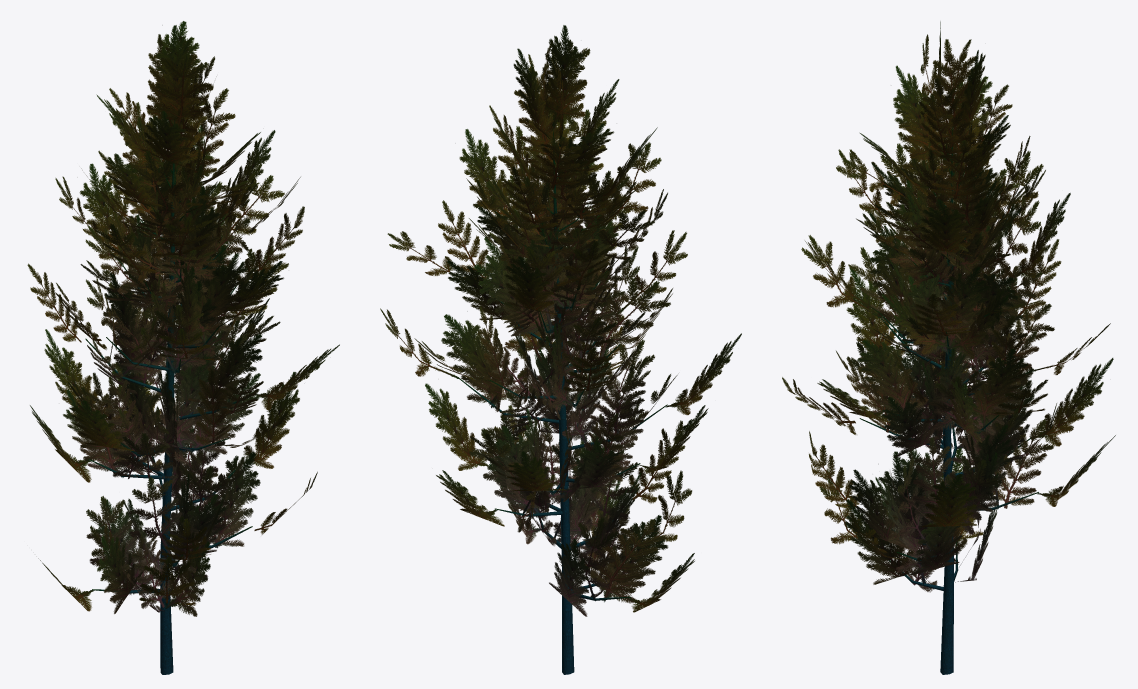
The model's file is Douglas_Fir_F.glb.
The picture shows the model from 3 angles, left to right: view 1: azimuth 30°, elevation 25°; view 2: azimuth 150°, elevation 25°; view 3: azimuth 270°, elevation 25°; orthographic projection.
Parts seen in each view (by area): view 1: F_LOD0; view 2: F_LOD0; view 3: F_LOD0.
Boxes of the visible parts, <box> form: F_LOD0: <box>27,21,339,674</box>; F_LOD0: <box>380,25,741,674</box>; F_LOD0: <box>782,21,1115,674</box>.
Size of what is drawn, in the model's own units: 1.49 by 3.17 by 1.51.
2 materials, 2 textured.
